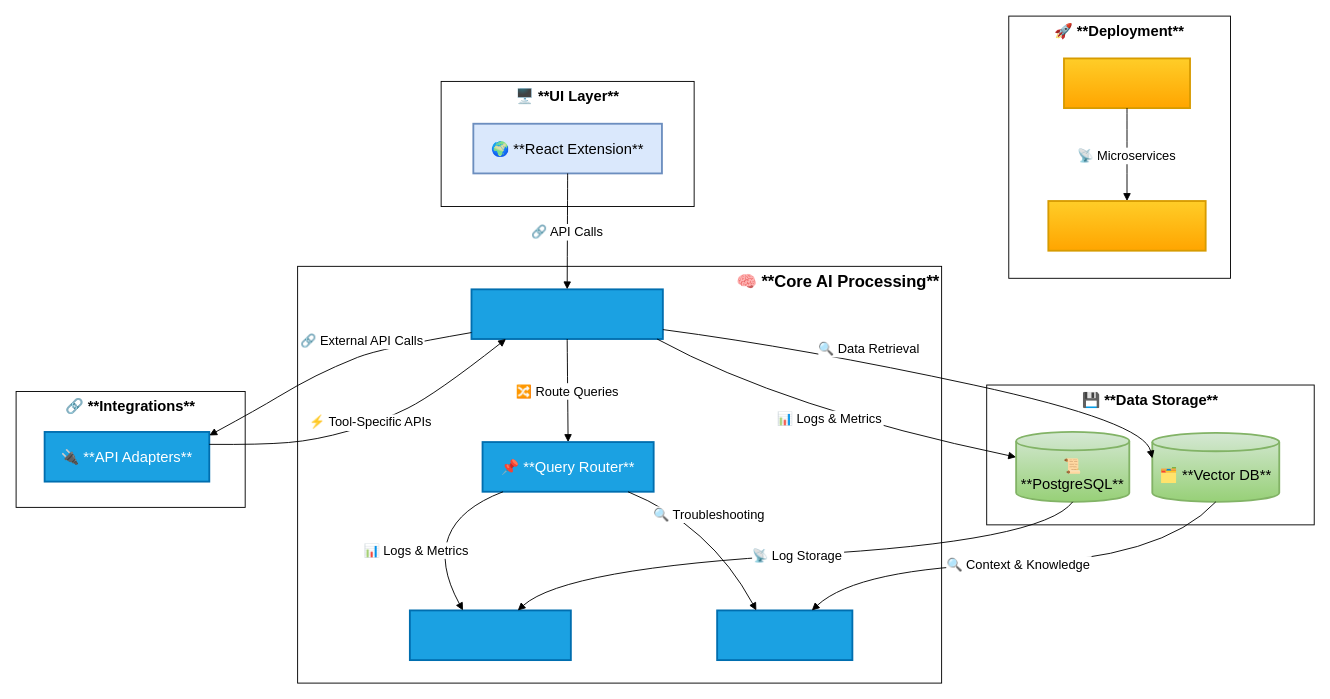
Image size: 1330x699. Some labels were removed from this diagram. The centre of each missing label's shape, as x and y in pixels:
☸️ **Kubernetes**: point (1126, 225)
📂 **Log Analysis**: point (489, 635)
📦 **Docker**: point (1126, 83)
🚀 **FastAPI Gateway**: point (566, 313)
🤖 **AI Agent**: point (784, 635)
